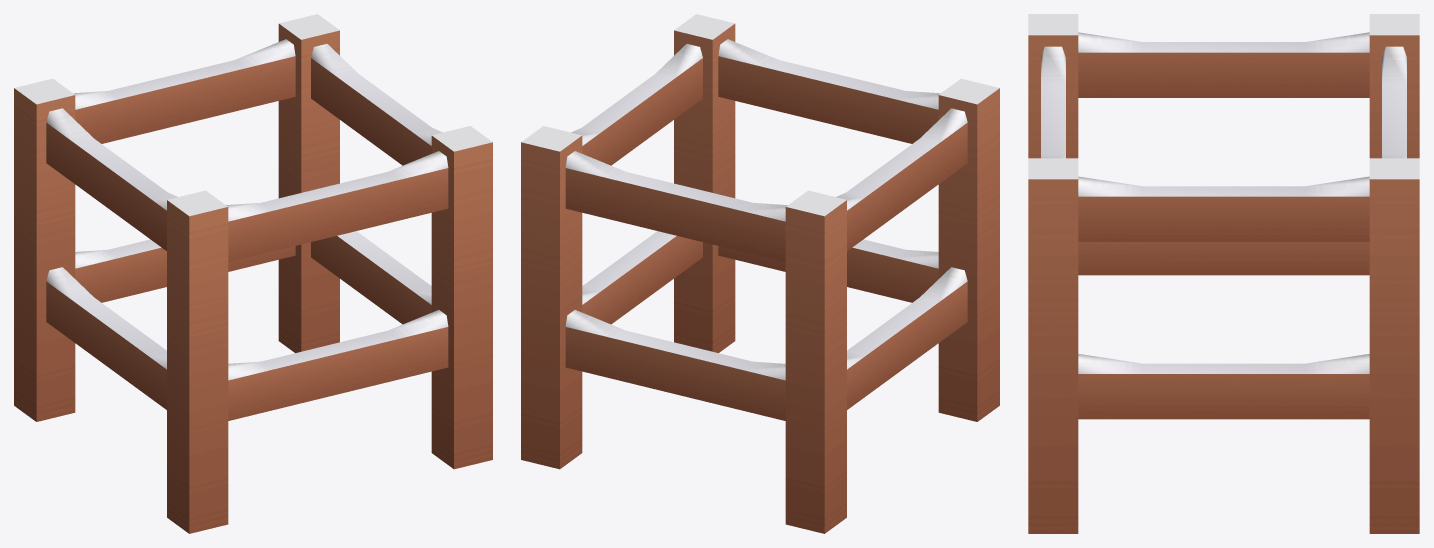
The model's file is tower-defense-kit--snow-wood-structure-high.glb.
3 views of the same model, side by side, from view 1: azimuth 30°, elevation 25°; view 2: azimuth 150°, elevation 25°; view 3: azimuth 270°, elevation 25° (orthographic). The views are drawn at different scales.
Visible parts, largest first — view 1: snow-wood-structure-high; view 2: snow-wood-structure-high; view 3: snow-wood-structure-high.
Part boxes in pixels (bbox=[...]): snow-wood-structure-high: bbox=[14, 14, 492, 533]; snow-wood-structure-high: bbox=[521, 14, 999, 533]; snow-wood-structure-high: bbox=[1028, 14, 1419, 533].
Bounding box in the file's own units: 1 × 1 × 1.
1 material, 1 textured.
